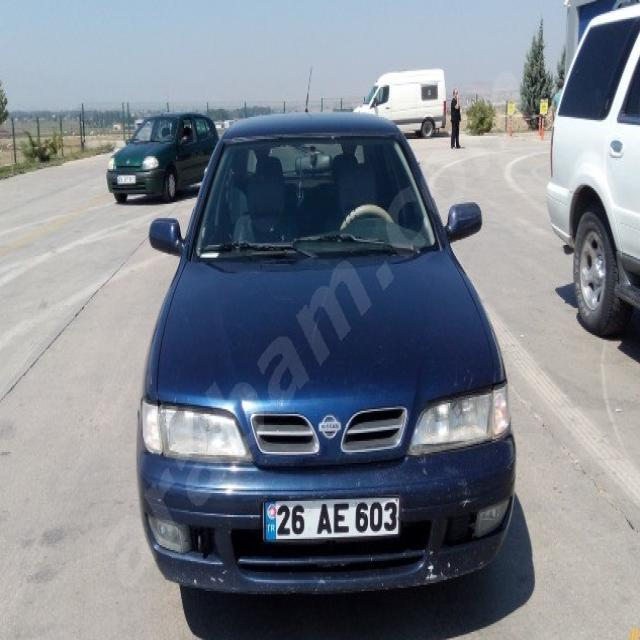license_plate: (264, 500, 400, 540)
